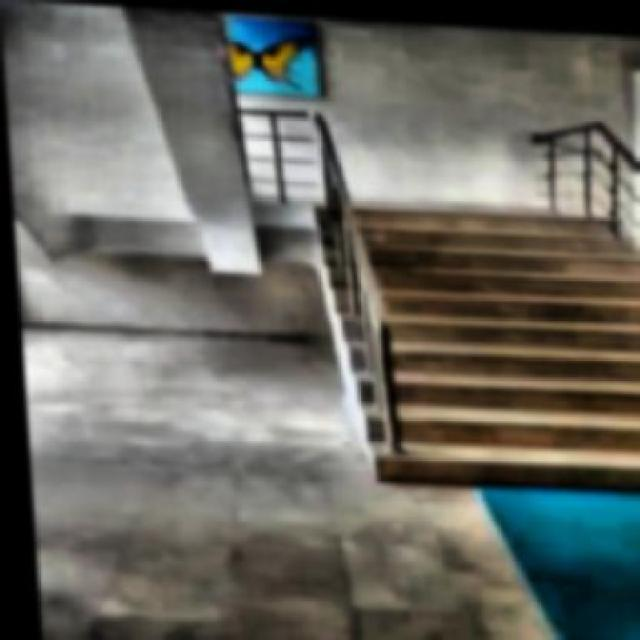stair: (296, 188, 638, 495)
